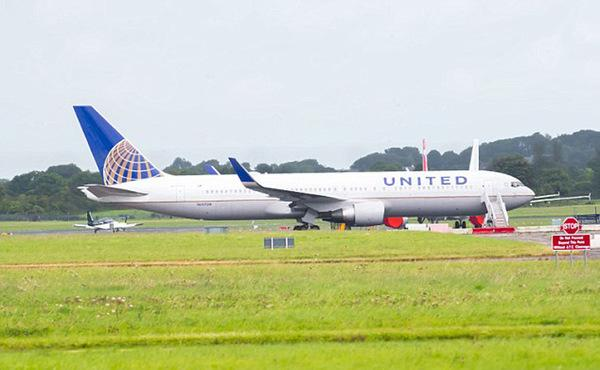airplane: (70, 93, 538, 231)
